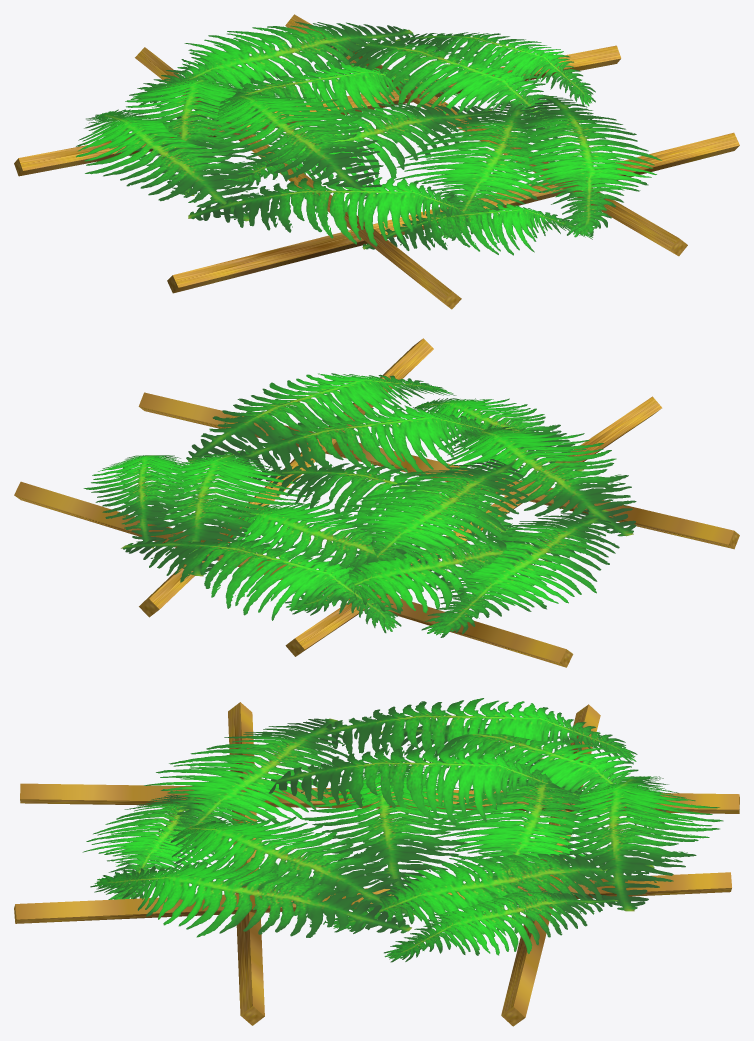
The model's file is covering.obj.
3 renders of one model, top to bottom at view 1: azimuth 30°, elevation 25°; view 2: azimuth 150°, elevation 25°; view 3: azimuth 270°, elevation 25°, orthographic. The views are drawn at different scales.
Visible parts, largest first — view 1: Duplicate10, Duplicate13, Duplicate06, Duplicate12, Duplicate09, Duplicate05, Duplicate07, Duplicate01, Triangles, Duplicate08, Duplicate04, Duplicate11 (+4 smaller); view 2: Duplicate12, Duplicate13, Duplicate09, Duplicate05, Duplicate10, Duplicate06, Duplicate07, Duplicate08, Duplicate04, Triangles, Duplicate01, Box01 (+4 smaller); view 3: Duplicate10, Duplicate05, Duplicate09, Duplicate13, Duplicate06, Duplicate07, Duplicate12, Triangles, Duplicate04, Duplicate11, Duplicate08, Duplicate03 (+4 smaller).
Part boxes in pixels (x1,y1,x2,y2): Duplicate10: (492,96,661,237); Duplicate13: (202,89,383,199); Duplicate06: (394,101,562,240); Duplicate12: (76,109,257,221); Duplicate09: (129,21,413,105); Duplicate05: (188,174,493,246); Duplicate07: (325,38,562,138); Duplicate01: (167,132,739,293); Triangles: (224,103,495,189); Duplicate08: (122,74,284,195); Duplicate04: (170,61,458,129); Duplicate11: (395,32,595,106); Duplicate12: (421,509,619,637); Duplicate13: (333,459,528,576); Duplicate09: (121,537,401,633); Duplicate05: (445,425,636,536); Duplicate10: (186,373,456,462); Duplicate06: (231,405,491,474); Duplicate07: (137,450,309,576); Duplicate08: (285,532,585,615); Duplicate04: (211,500,454,590); Triangles: (248,463,525,542); Duplicate01: (138,392,739,549); Box01: (14,481,573,667); Duplicate10: (90,857,411,937); Duplicate05: (144,718,347,851); Duplicate09: (542,776,723,911); Duplicate13: (252,746,591,824); Duplicate06: (158,816,415,916); Duplicate07: (333,852,654,933); Duplicate12: (295,698,637,767); Triangles: (300,765,479,894); Duplicate04: (423,758,607,910); Duplicate11: (384,888,618,962); Duplicate08: (381,724,666,829); Duplicate03: (14,872,731,923).
Size of the model in its own units: 105 by 10.7 by 105.
